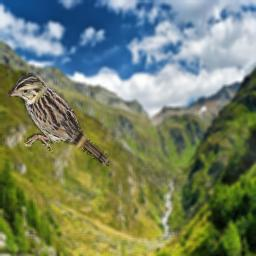Sparrow: (8, 72, 109, 166)
